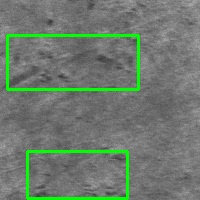rolled-in_scale: (7, 35, 138, 89), (27, 151, 127, 198)
